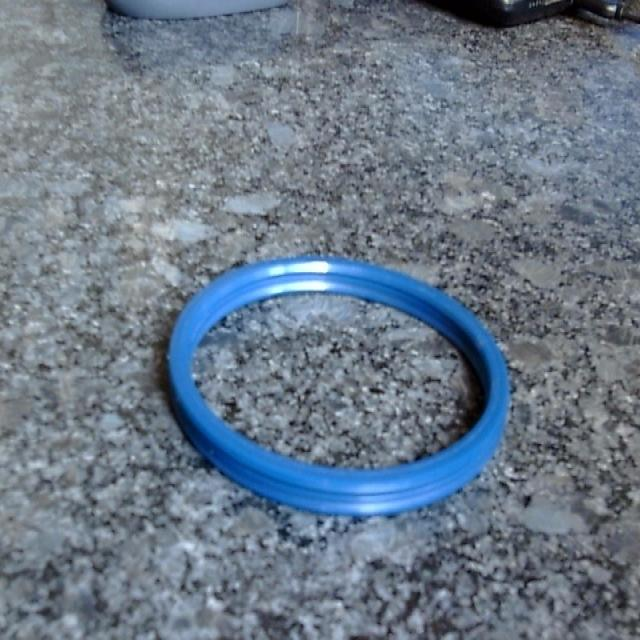purssian-blue-ring: (169, 258, 509, 515)
